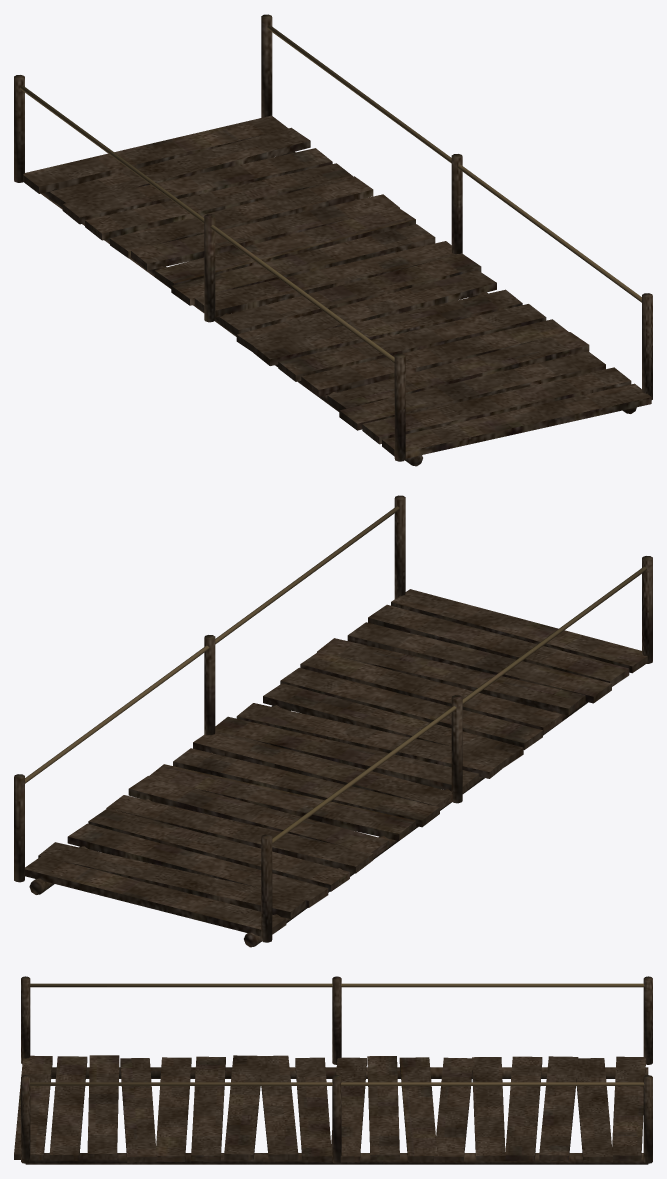
Rendered from bridge.glb.
3 renders of one model, top to bottom at view 1: azimuth 30°, elevation 25°; view 2: azimuth 150°, elevation 25°; view 3: azimuth 270°, elevation 25°, orthographic. The views are drawn at different scales.
Visible parts, largest first — view 1: Bridge; view 2: Bridge; view 3: Bridge.
Part boxes in pixels (left/top/right/bottom): Bridge: left=14, top=14, right=652, bottom=466; Bridge: left=14, top=495, right=652, bottom=947; Bridge: left=14, top=976, right=652, bottom=1164.
Size of the model in its own units: 3.12 by 1.33 by 8.21.
1 material, 1 textured.
